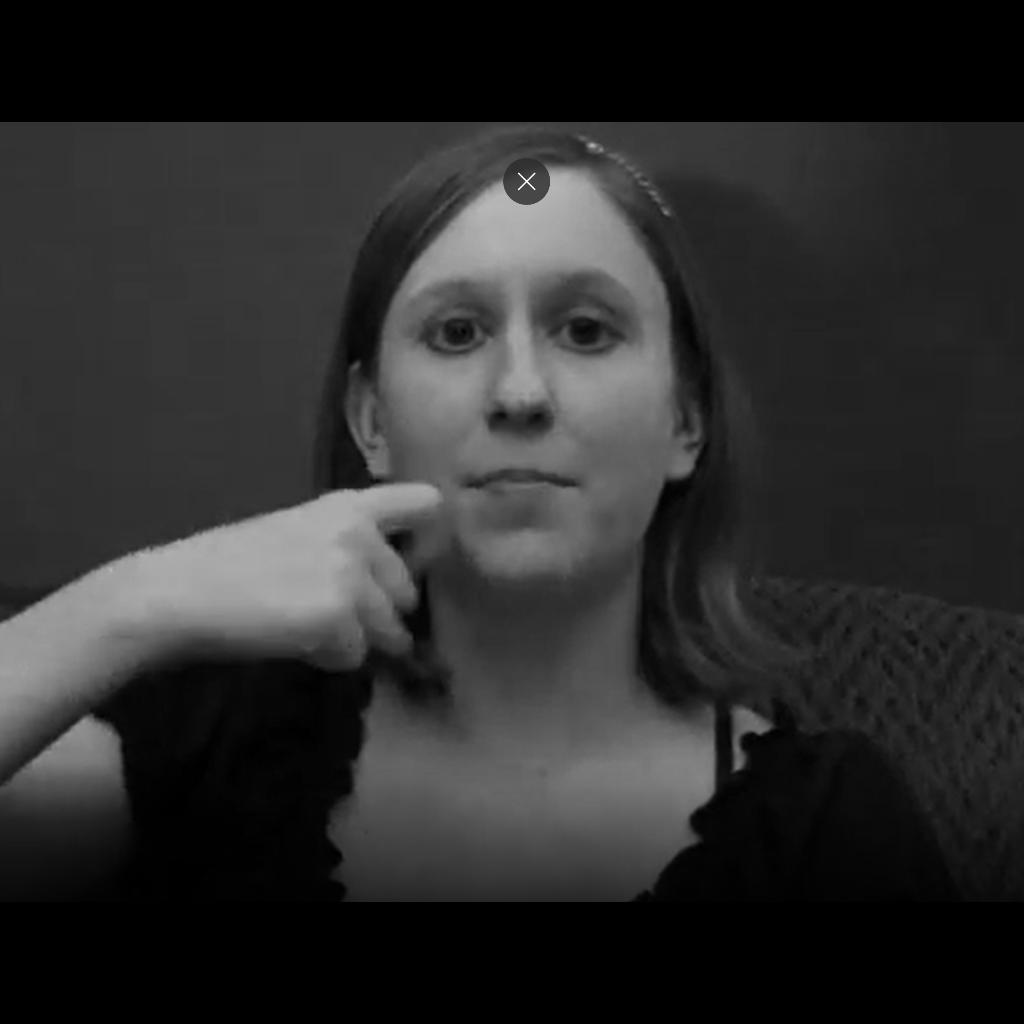apple: (180, 483, 452, 673)
